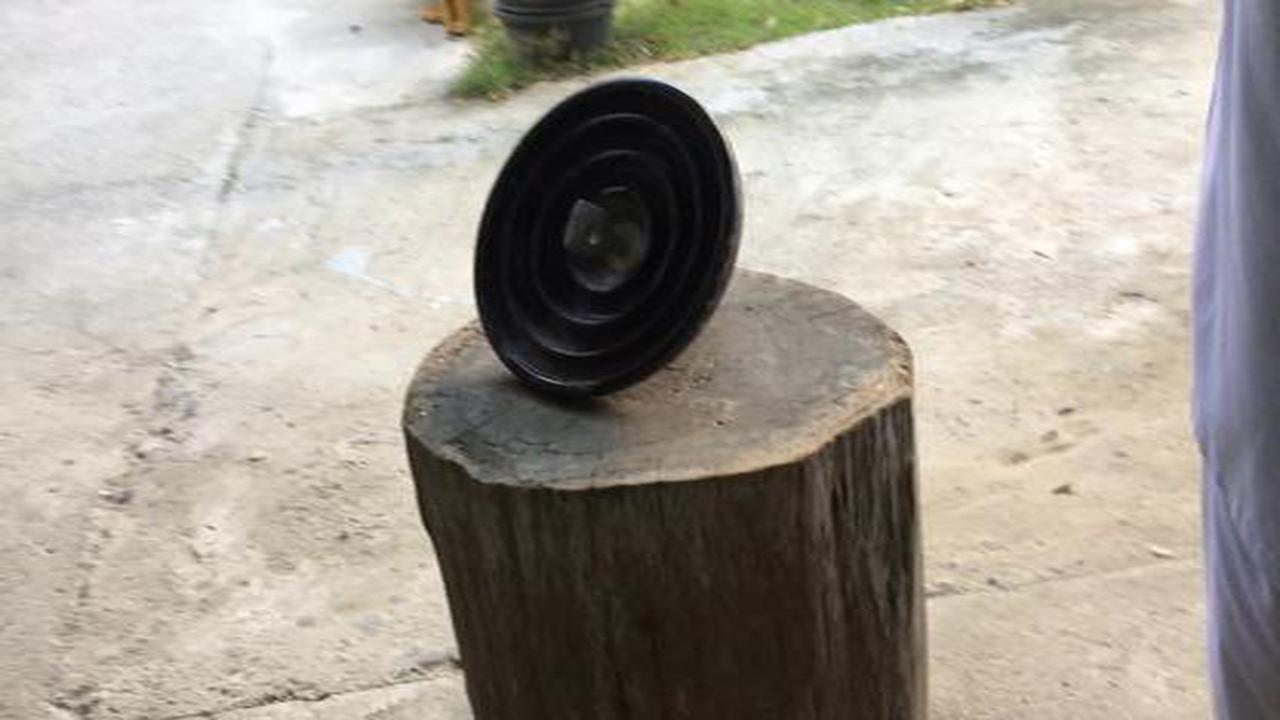insulator_disc: (468, 78, 749, 413)
